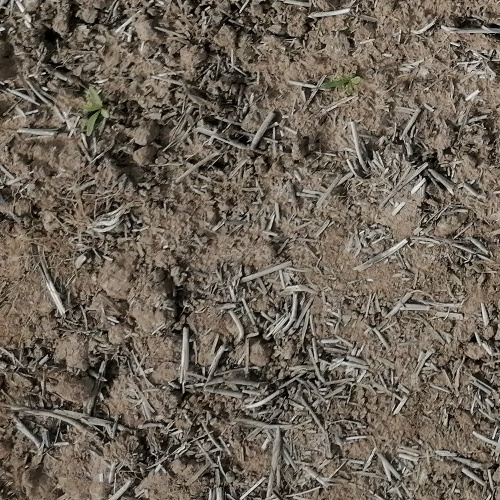beet: (84, 85, 110, 135), (319, 71, 363, 97)
